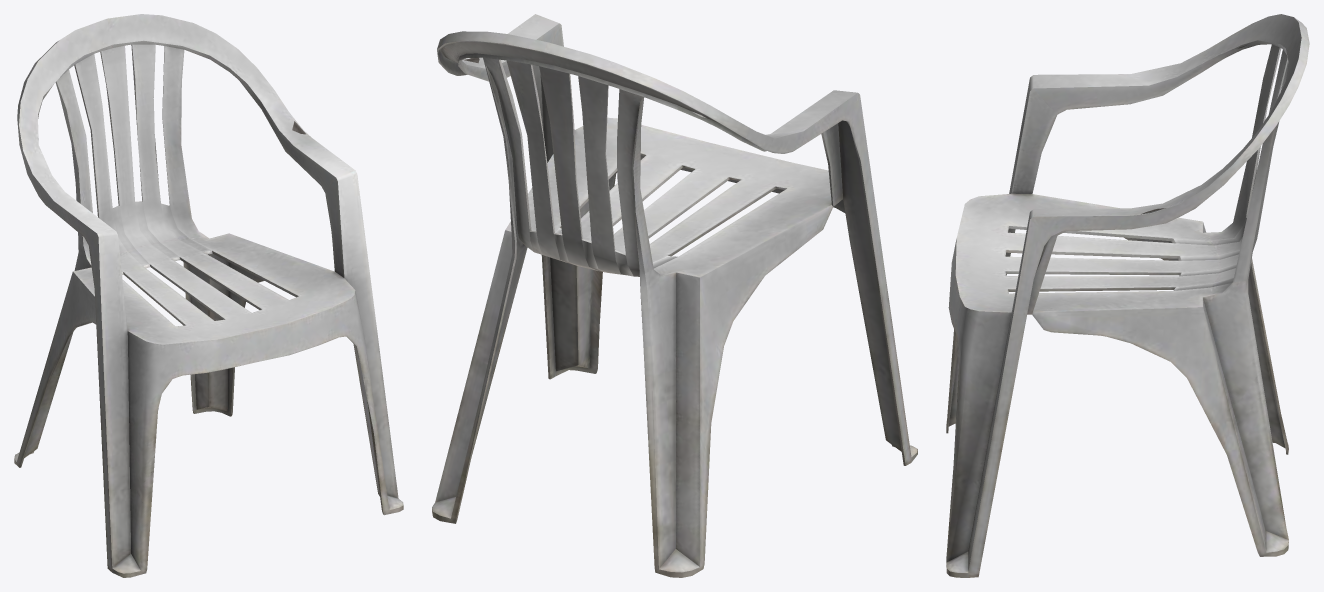
The model's file is chair.glb.
3 renders of one model, left to right at view 1: azimuth 30°, elevation 25°; view 2: azimuth 150°, elevation 25°; view 3: azimuth 270°, elevation 25°, orthographic. The views are drawn at different scales.
Visible parts, largest first — view 1: plastic_monobloc_chair_01; view 2: plastic_monobloc_chair_01; view 3: plastic_monobloc_chair_01.
Boxes of the visible parts, x1,y1,x2,y2 form: plastic_monobloc_chair_01: (14, 14, 403, 577); plastic_monobloc_chair_01: (432, 14, 917, 577); plastic_monobloc_chair_01: (946, 14, 1309, 577).
Size of the model in its own units: 0.6419 by 0.8798 by 0.6276.
Materials: 1 (1 with a texture image).
